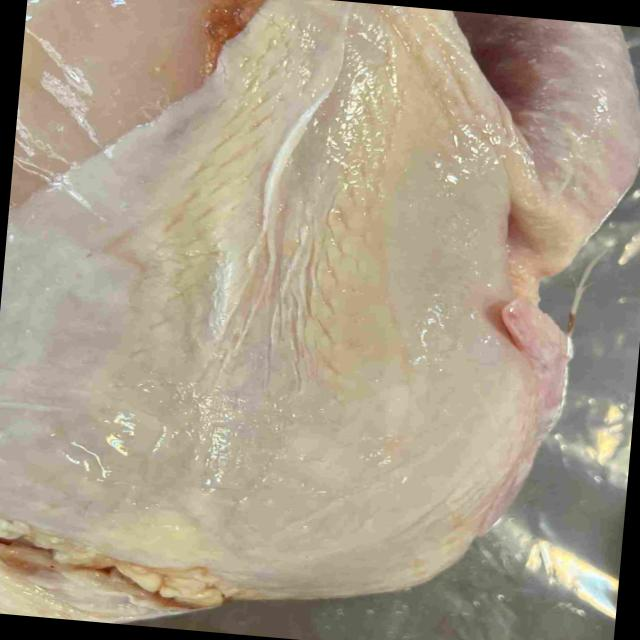breast: (0, 0, 563, 597)
leg: (453, 10, 640, 275)
